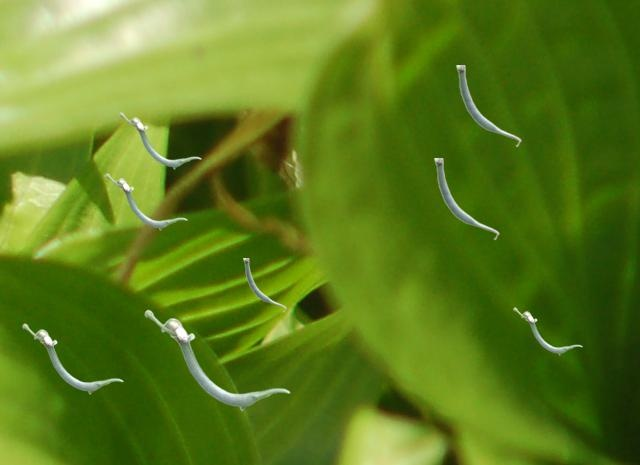french_bean: (144, 309, 289, 410), (22, 323, 122, 393), (434, 158, 498, 239), (456, 65, 520, 146), (105, 173, 186, 229), (119, 112, 200, 168), (513, 307, 581, 354), (243, 258, 285, 311)
